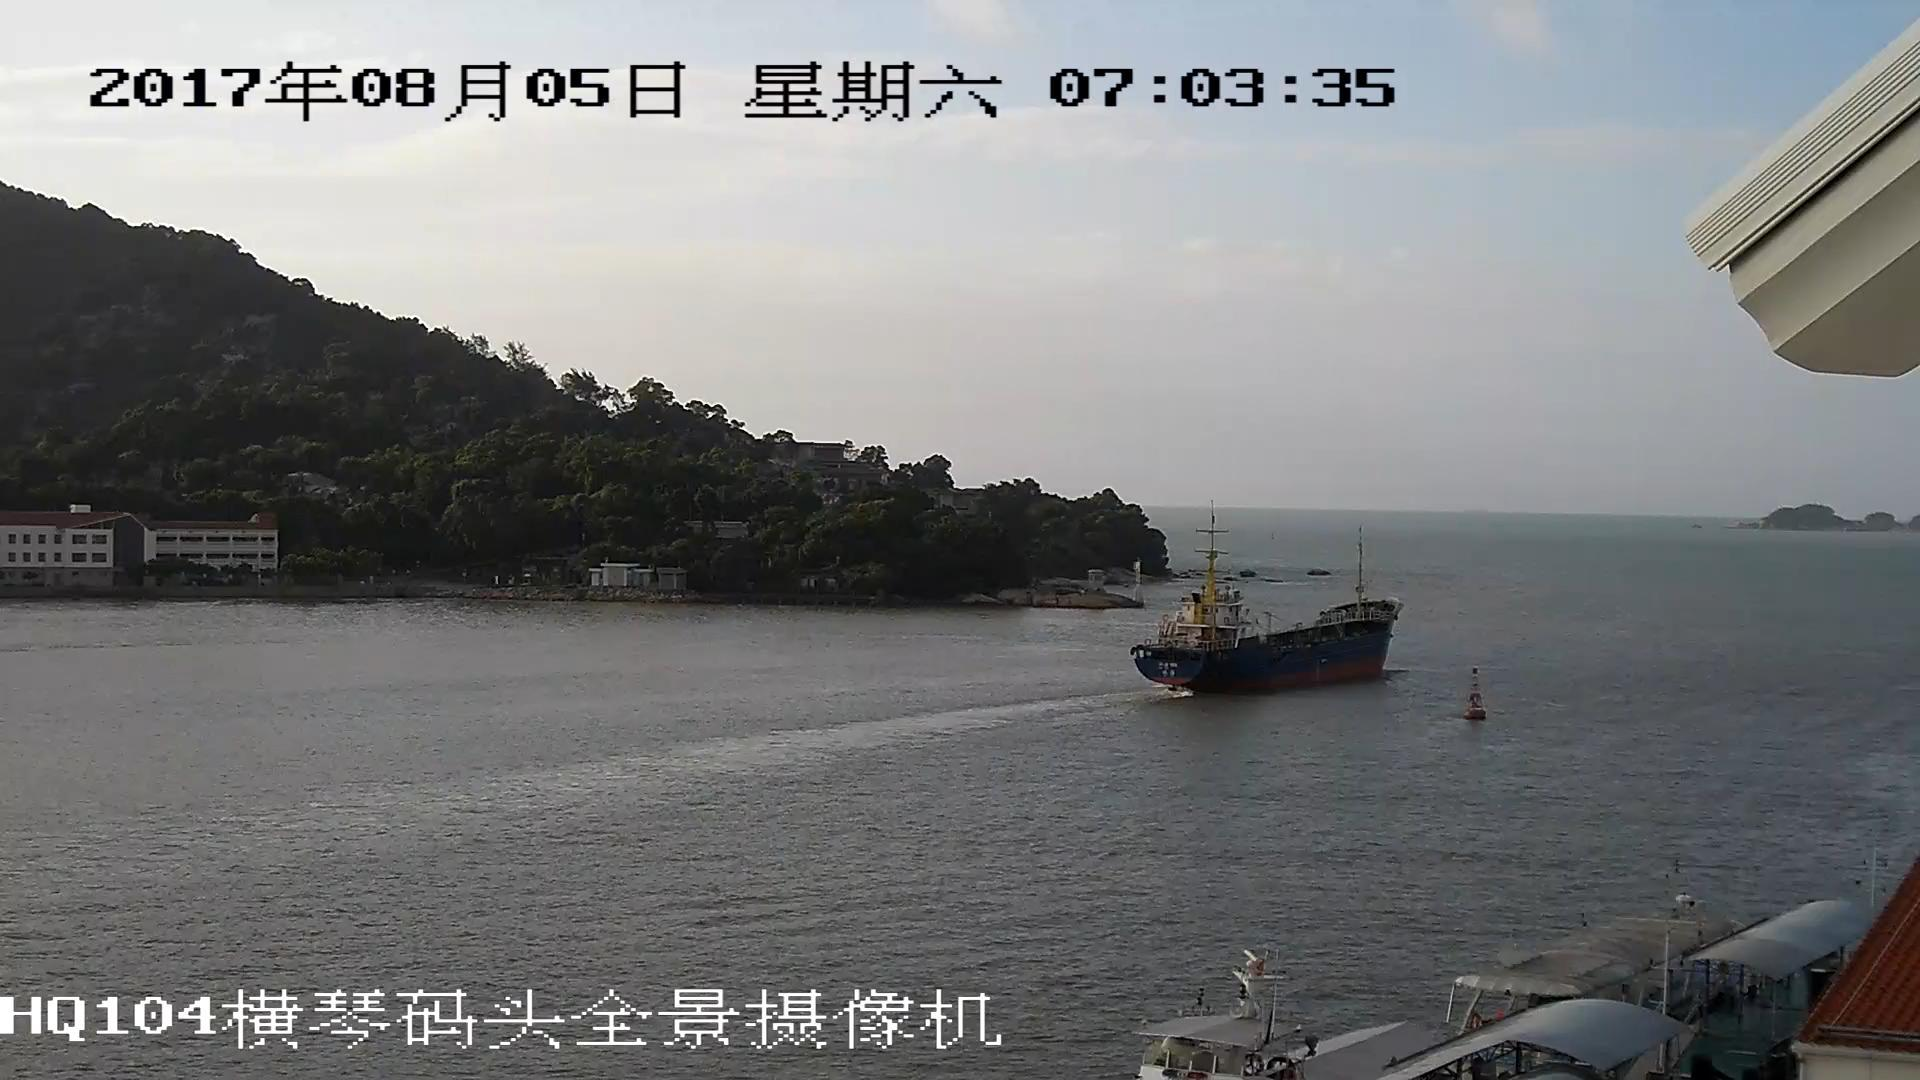Ship: (1130, 520, 1403, 696)
